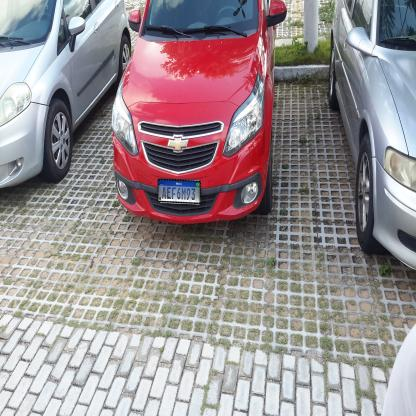PlacaM: (158, 179, 200, 204)
